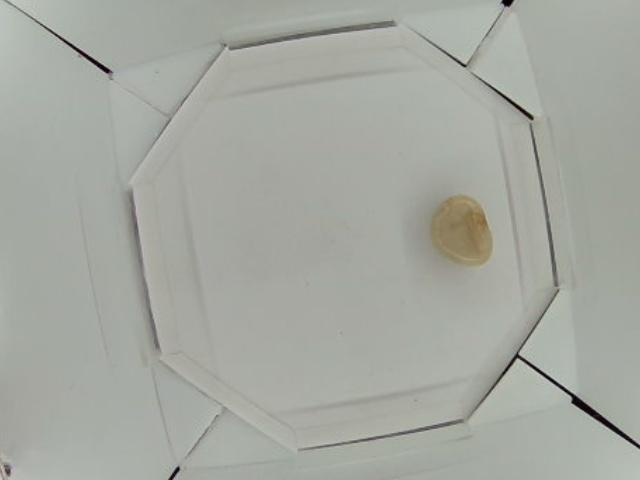Pebble: (430, 193, 494, 266)
